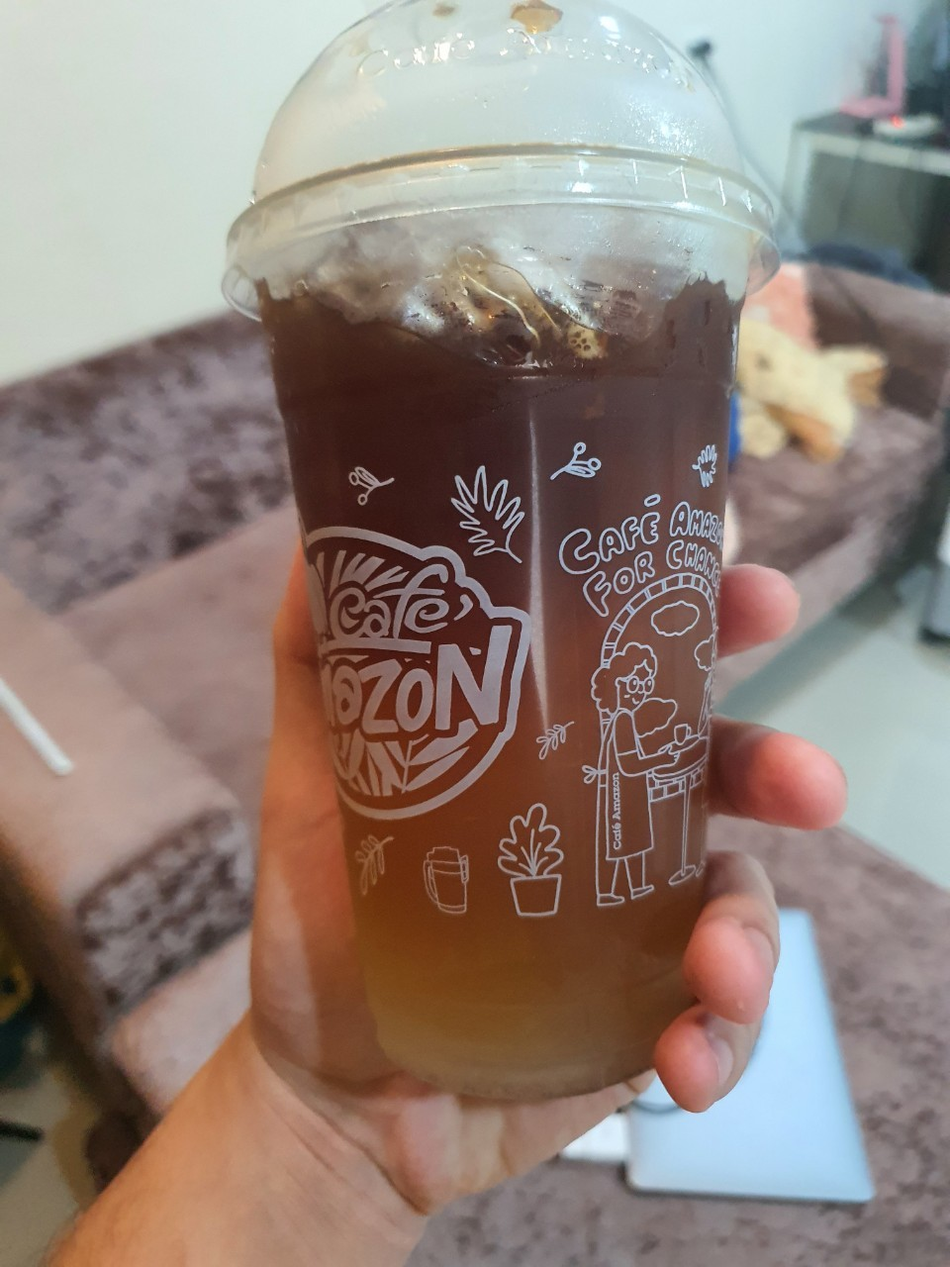plastic: (199, 4, 813, 1111)
